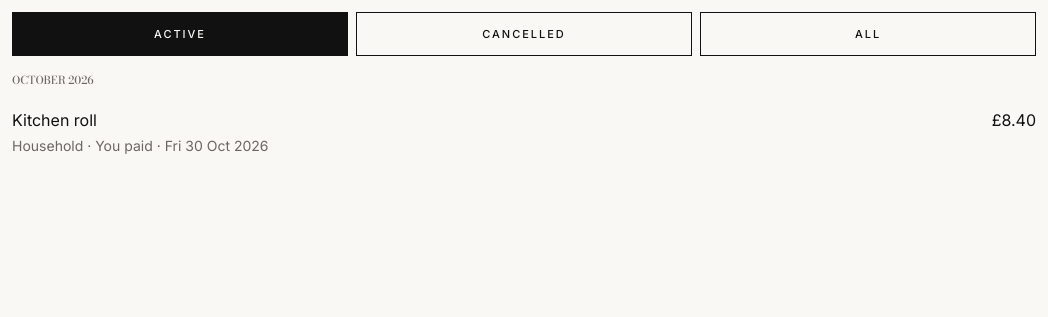
Test: ExpenseFilter › switches to Cancelled and to All
The width and height of the screenshot is (1048, 317).
Click the button "Cancelled": x=524, y=34 [356,12,692,56]
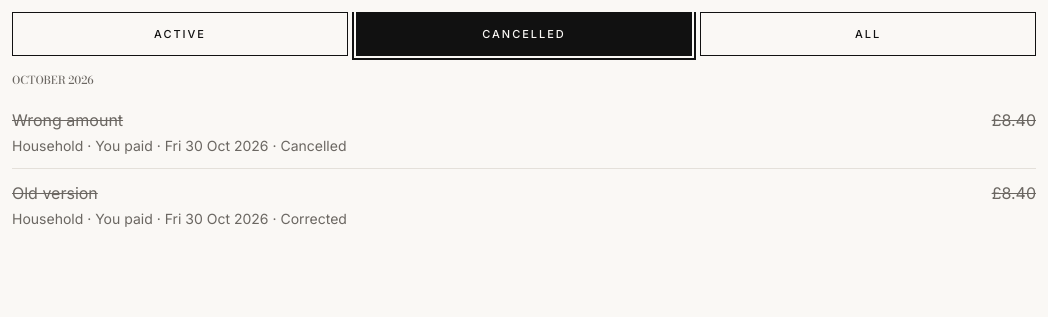
Expected: the link "Kitchen roll" is gone
Expected: the text "Wrong amount" is shown, [12,110,123,130]
Expected: the text "Old version" is shown, [12,183,98,203]
Click the button "All": x=868, y=34 [700,12,1036,56]
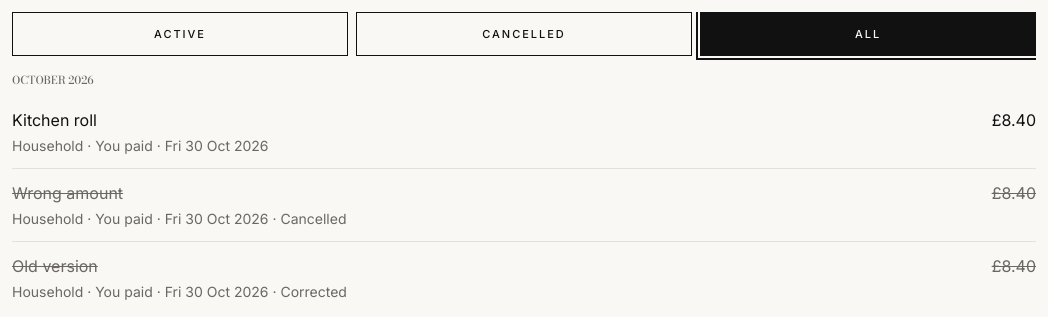
Expected: the text "Wrong amount" is shown, [12,183,123,203]
Expected: the text "Kitchen roll" is shown, [12,110,97,130]
